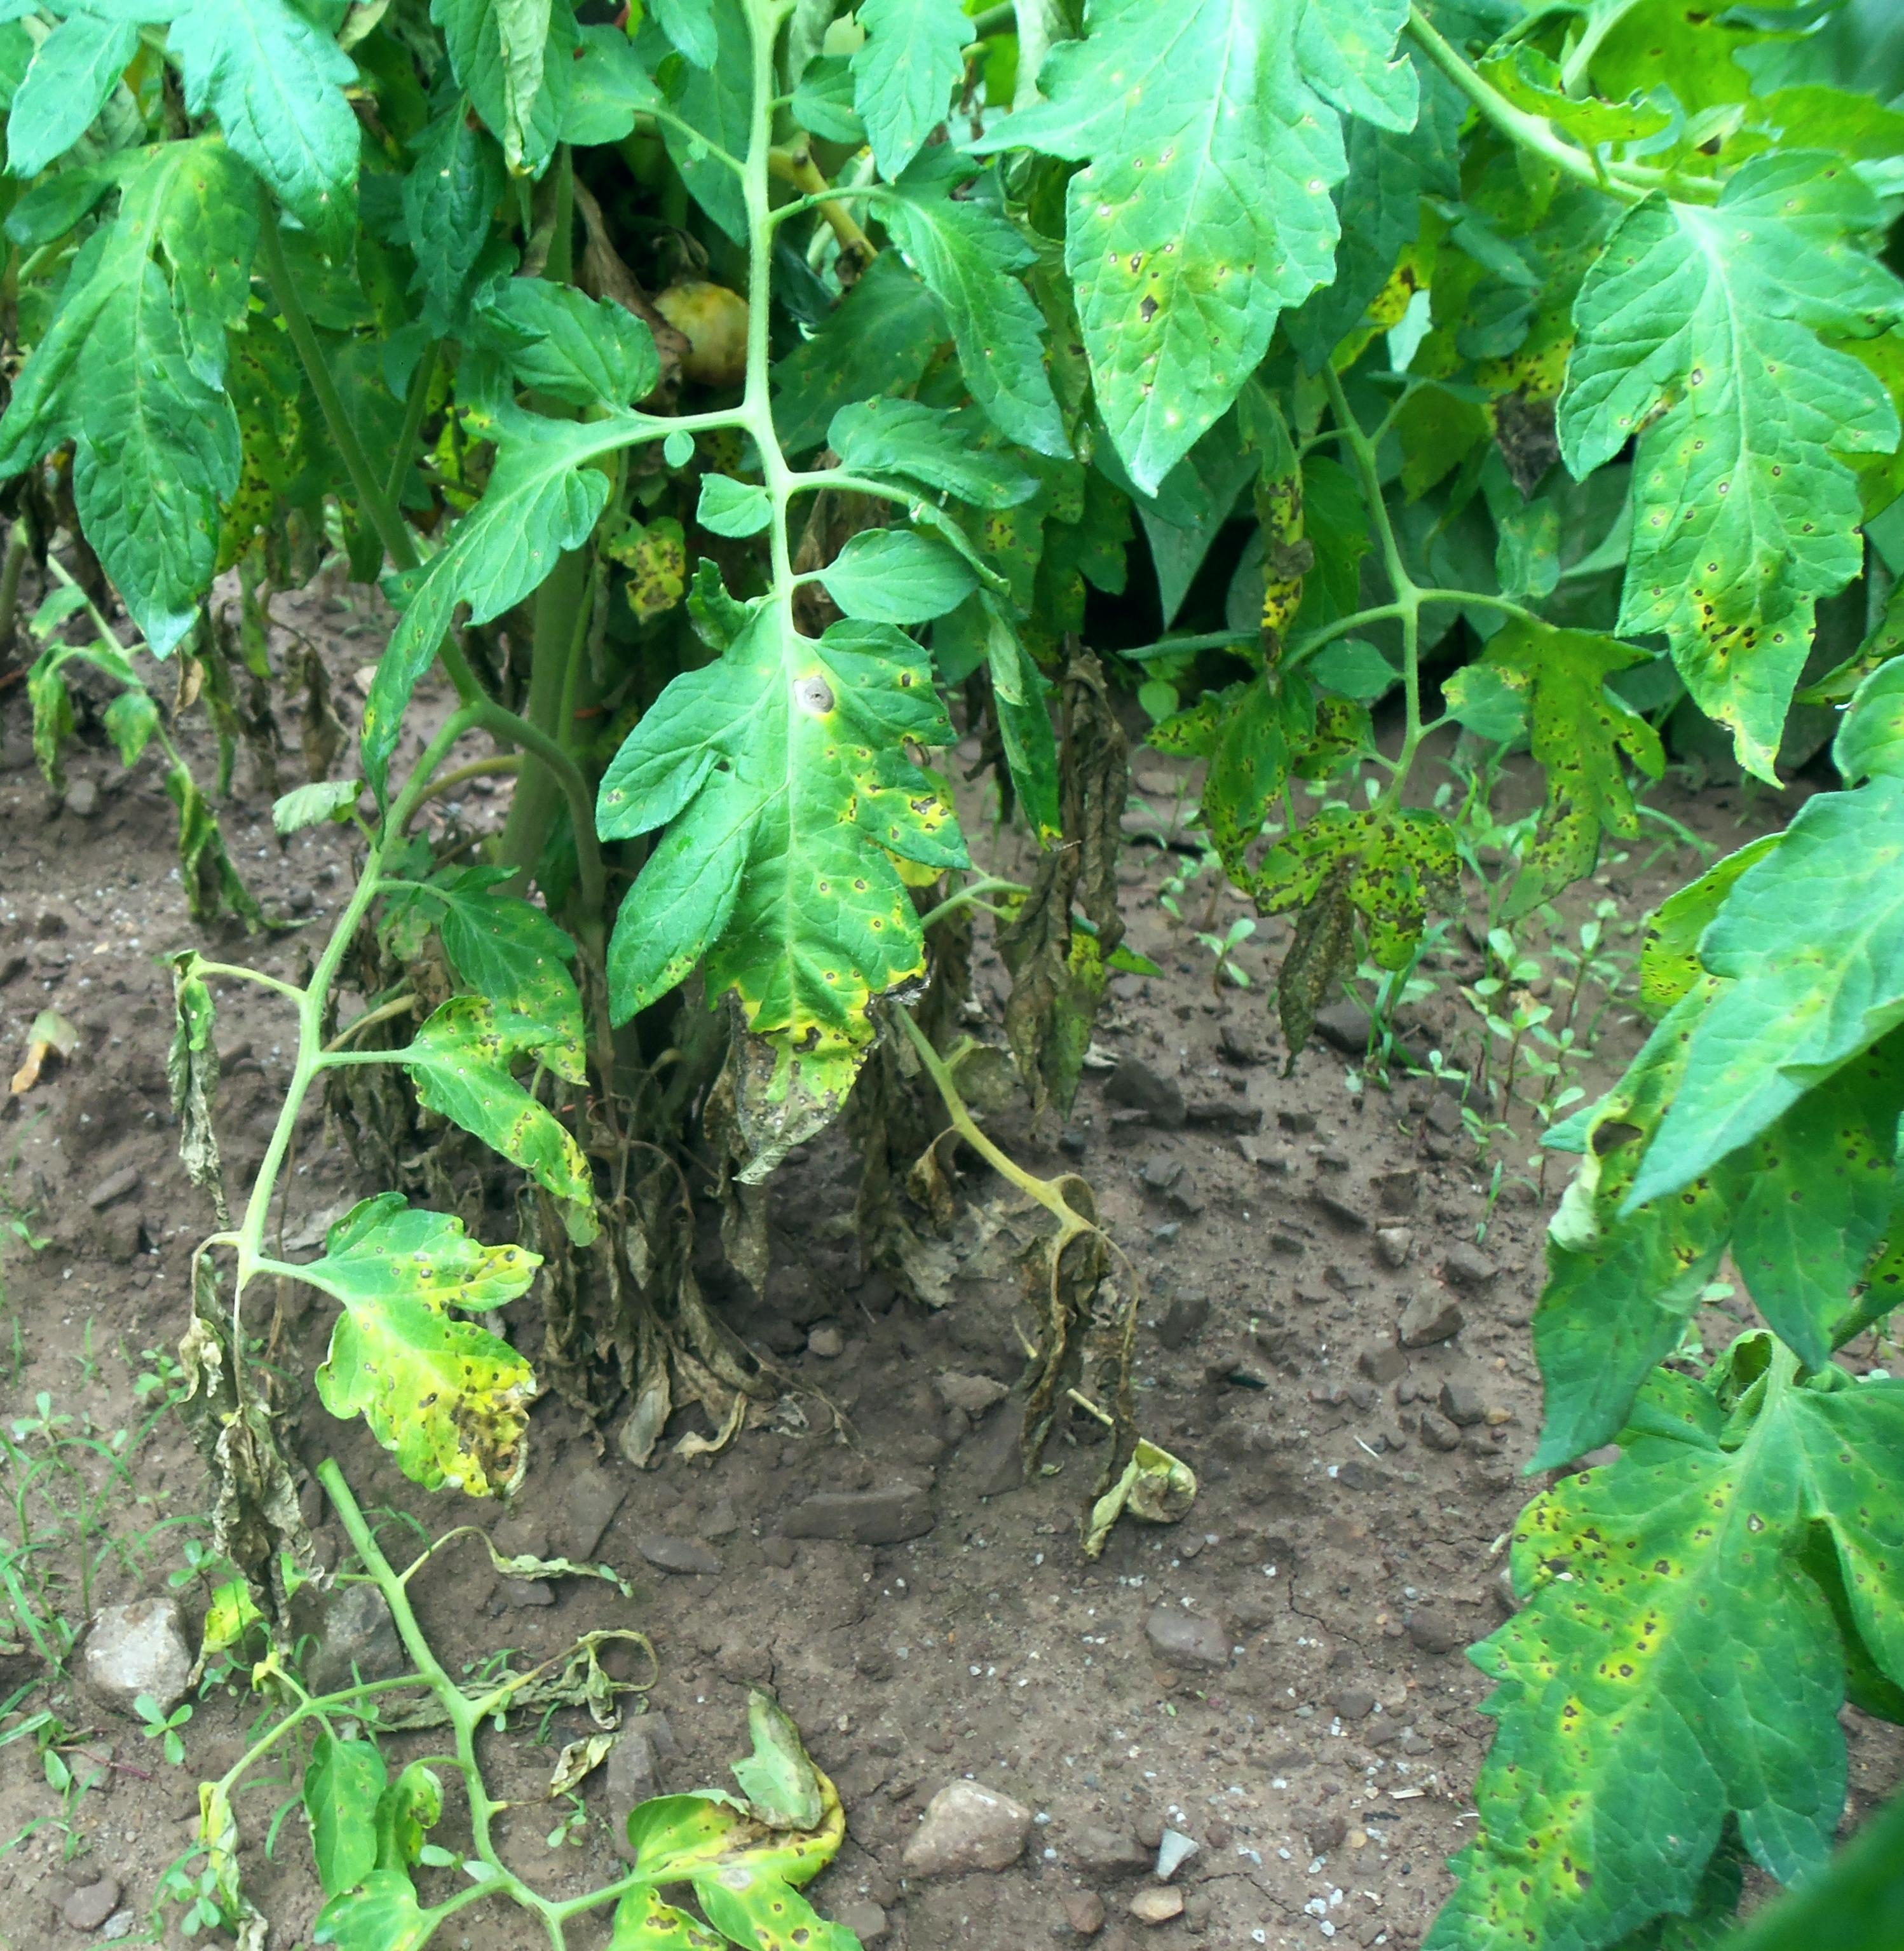Tomato Septoria leaf spot: (1414, 1342, 1838, 1951), (1531, 187, 1902, 799), (602, 580, 976, 1164), (1015, 17, 1415, 531), (284, 1181, 556, 1511), (406, 1020, 597, 1203)
